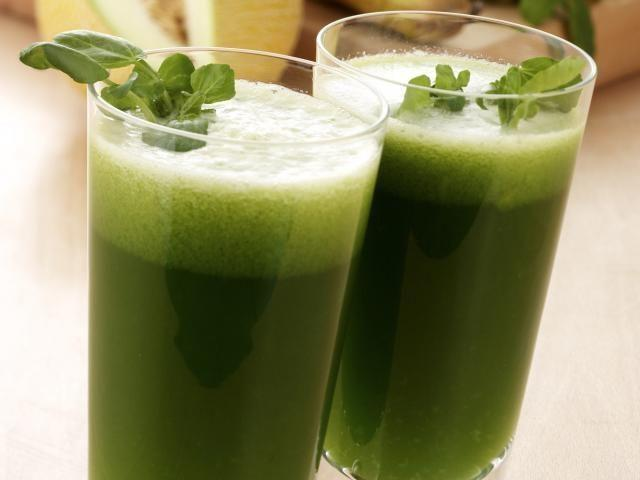glass-normal: (311, 10, 599, 479), (81, 46, 390, 479)
